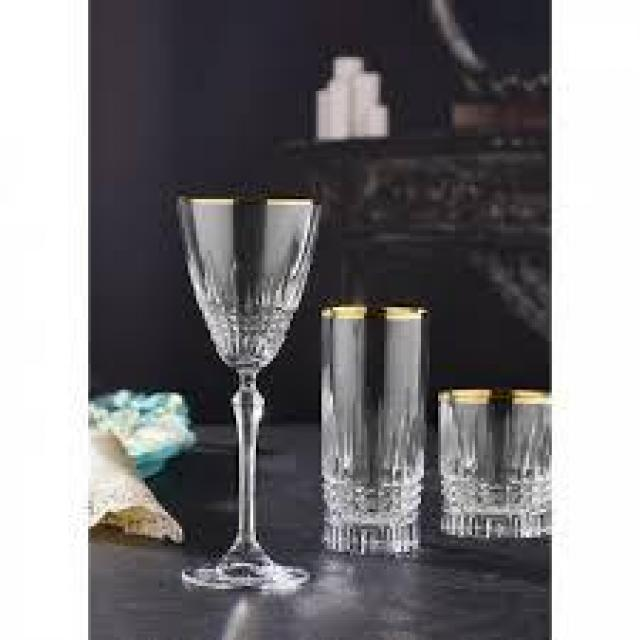non-organic waste: (174, 196, 327, 592), (318, 304, 429, 560), (437, 388, 553, 539)
